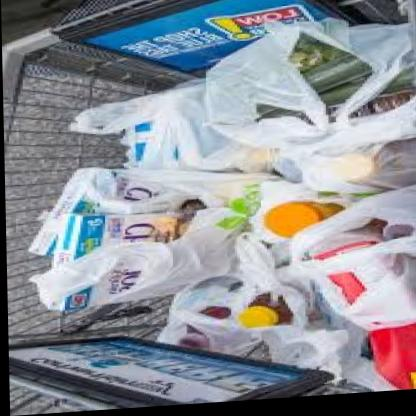Plastic: (23, 27, 411, 393)
